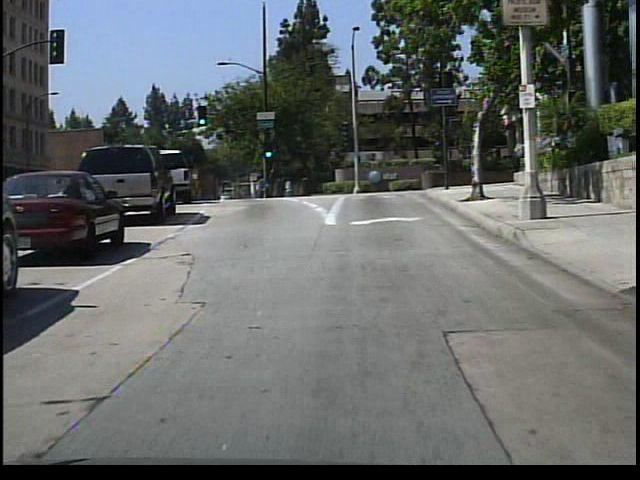person: (253, 168, 271, 201), (282, 173, 296, 199)
